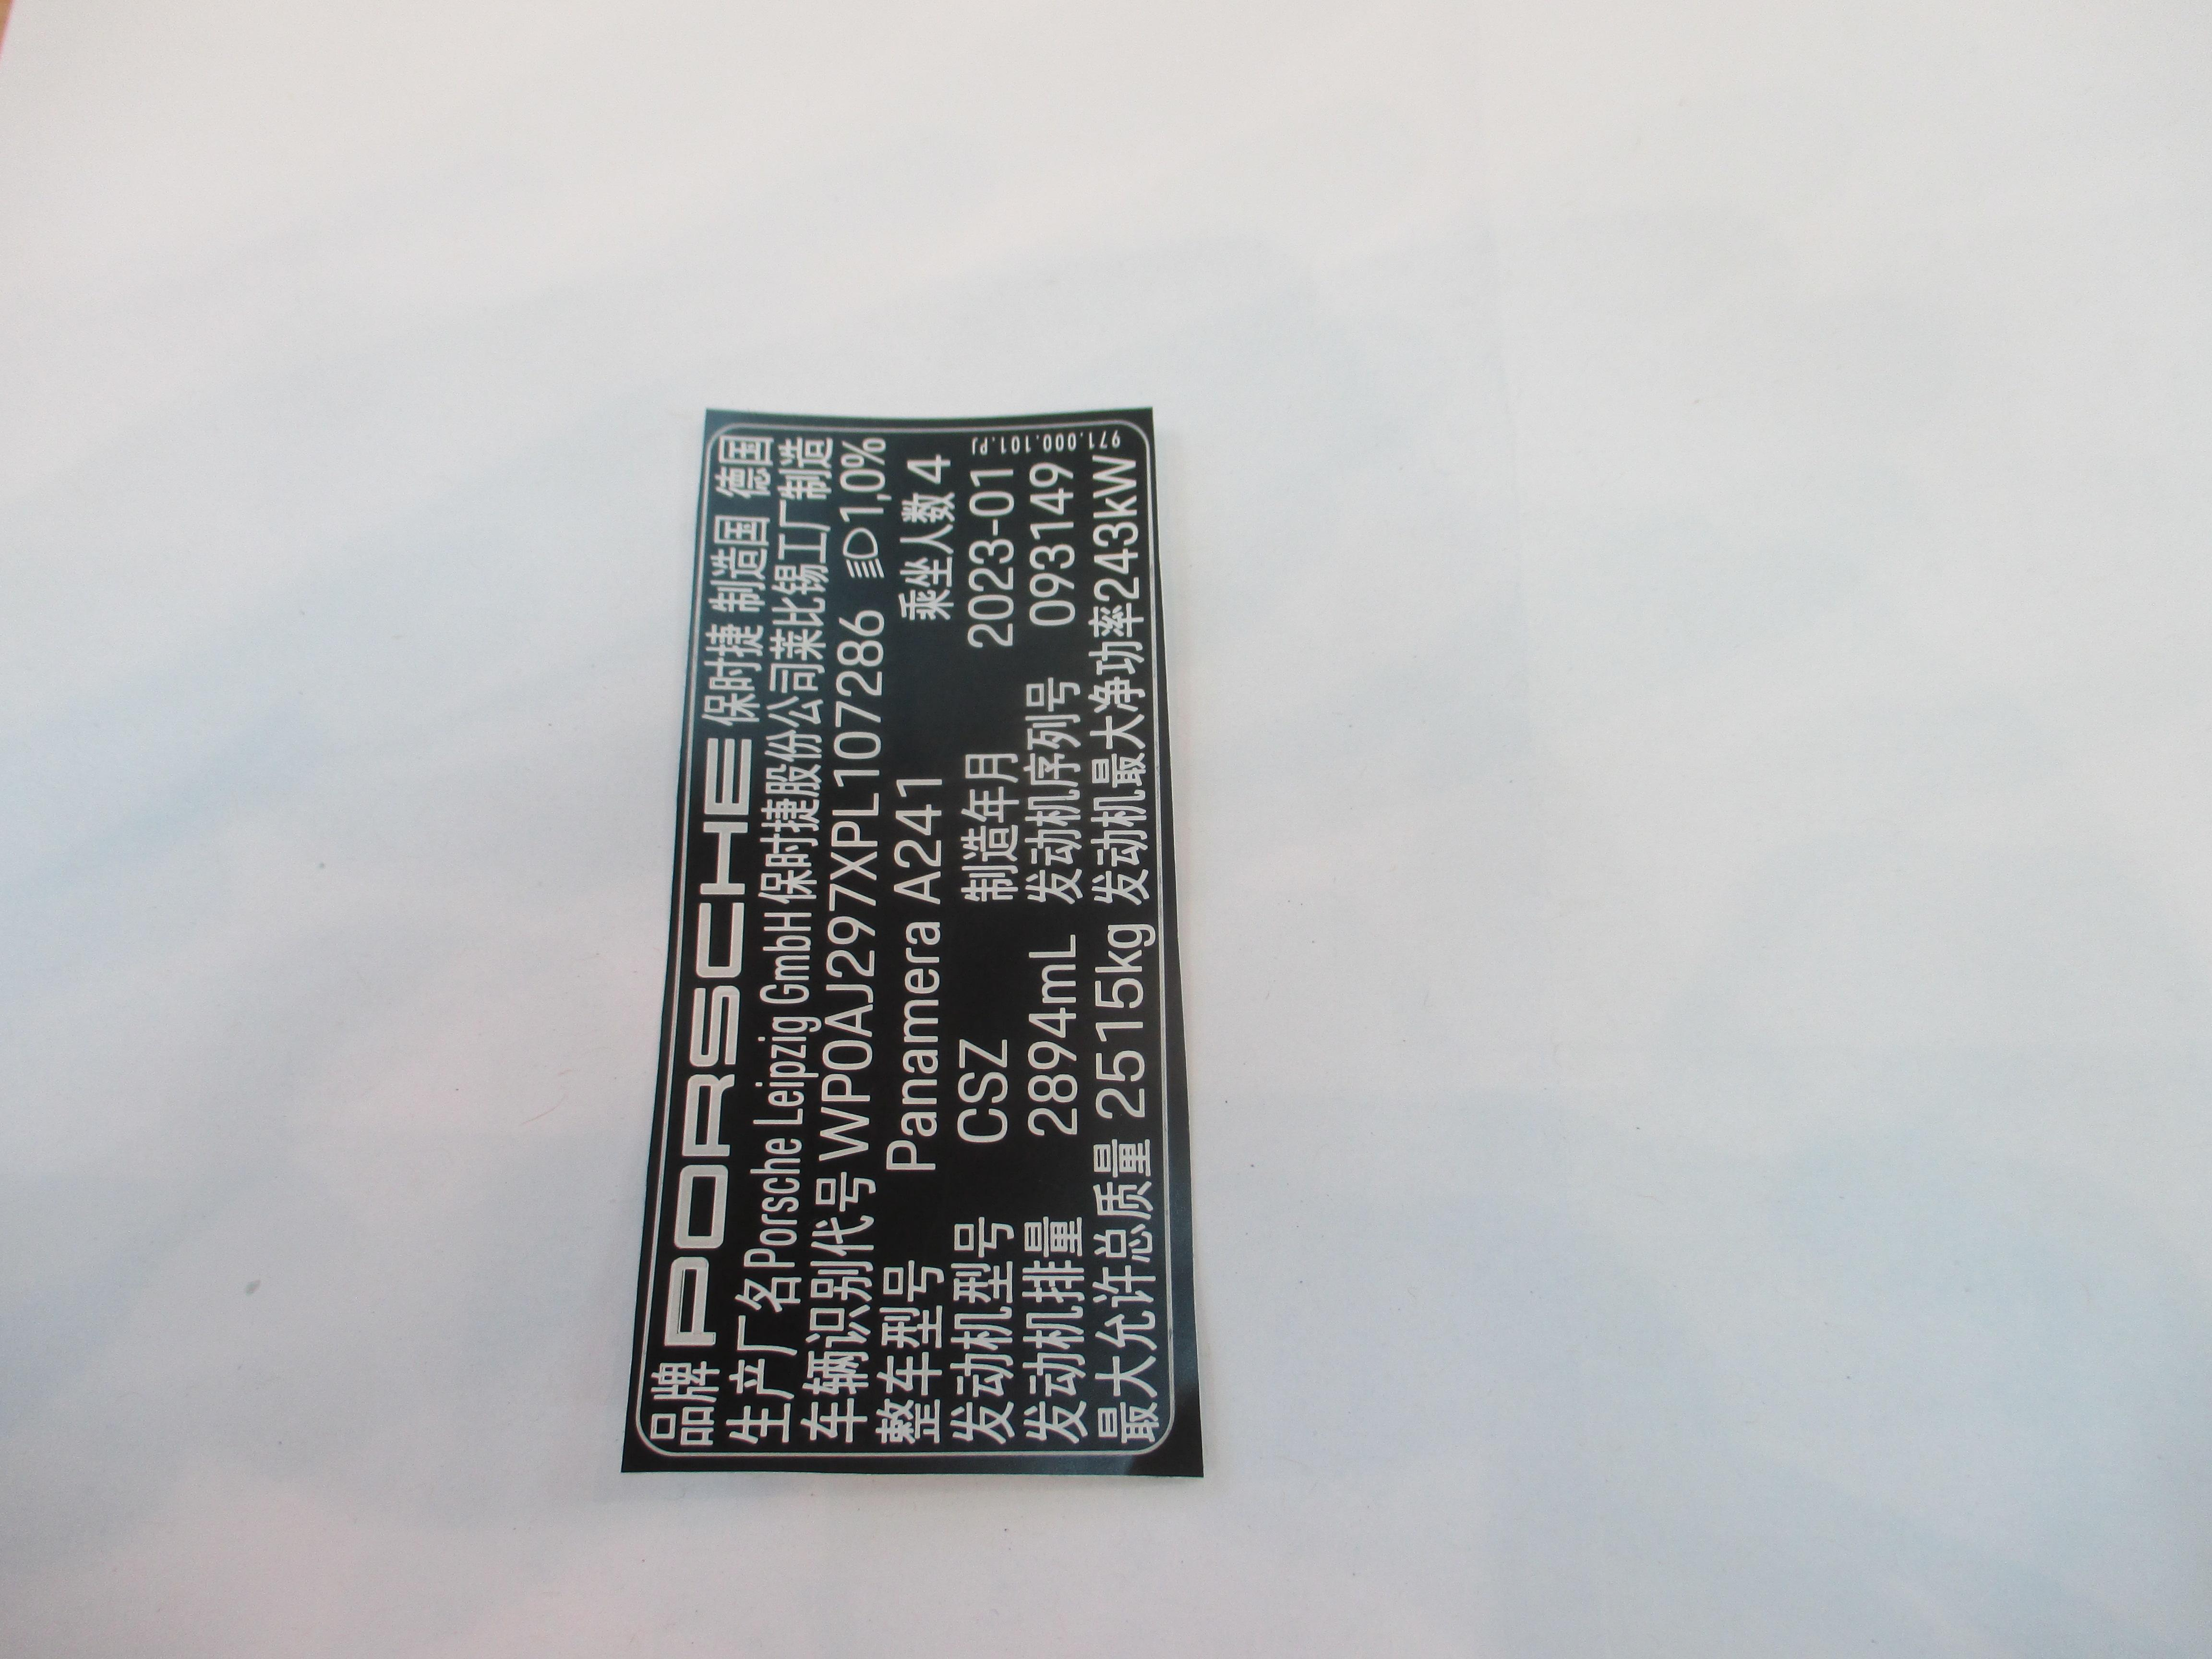Sign: (637, 418, 1174, 1455)
